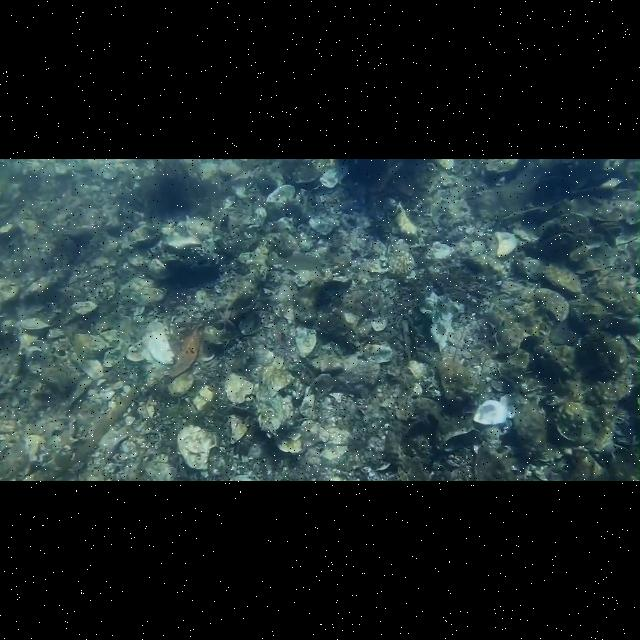Oyster-Closed: (552, 401, 612, 452), (128, 322, 175, 365), (178, 425, 216, 470), (543, 262, 584, 298), (280, 159, 335, 184), (517, 257, 548, 283), (505, 349, 530, 372)
Oyster-Open: (442, 423, 483, 454), (474, 400, 508, 425)
